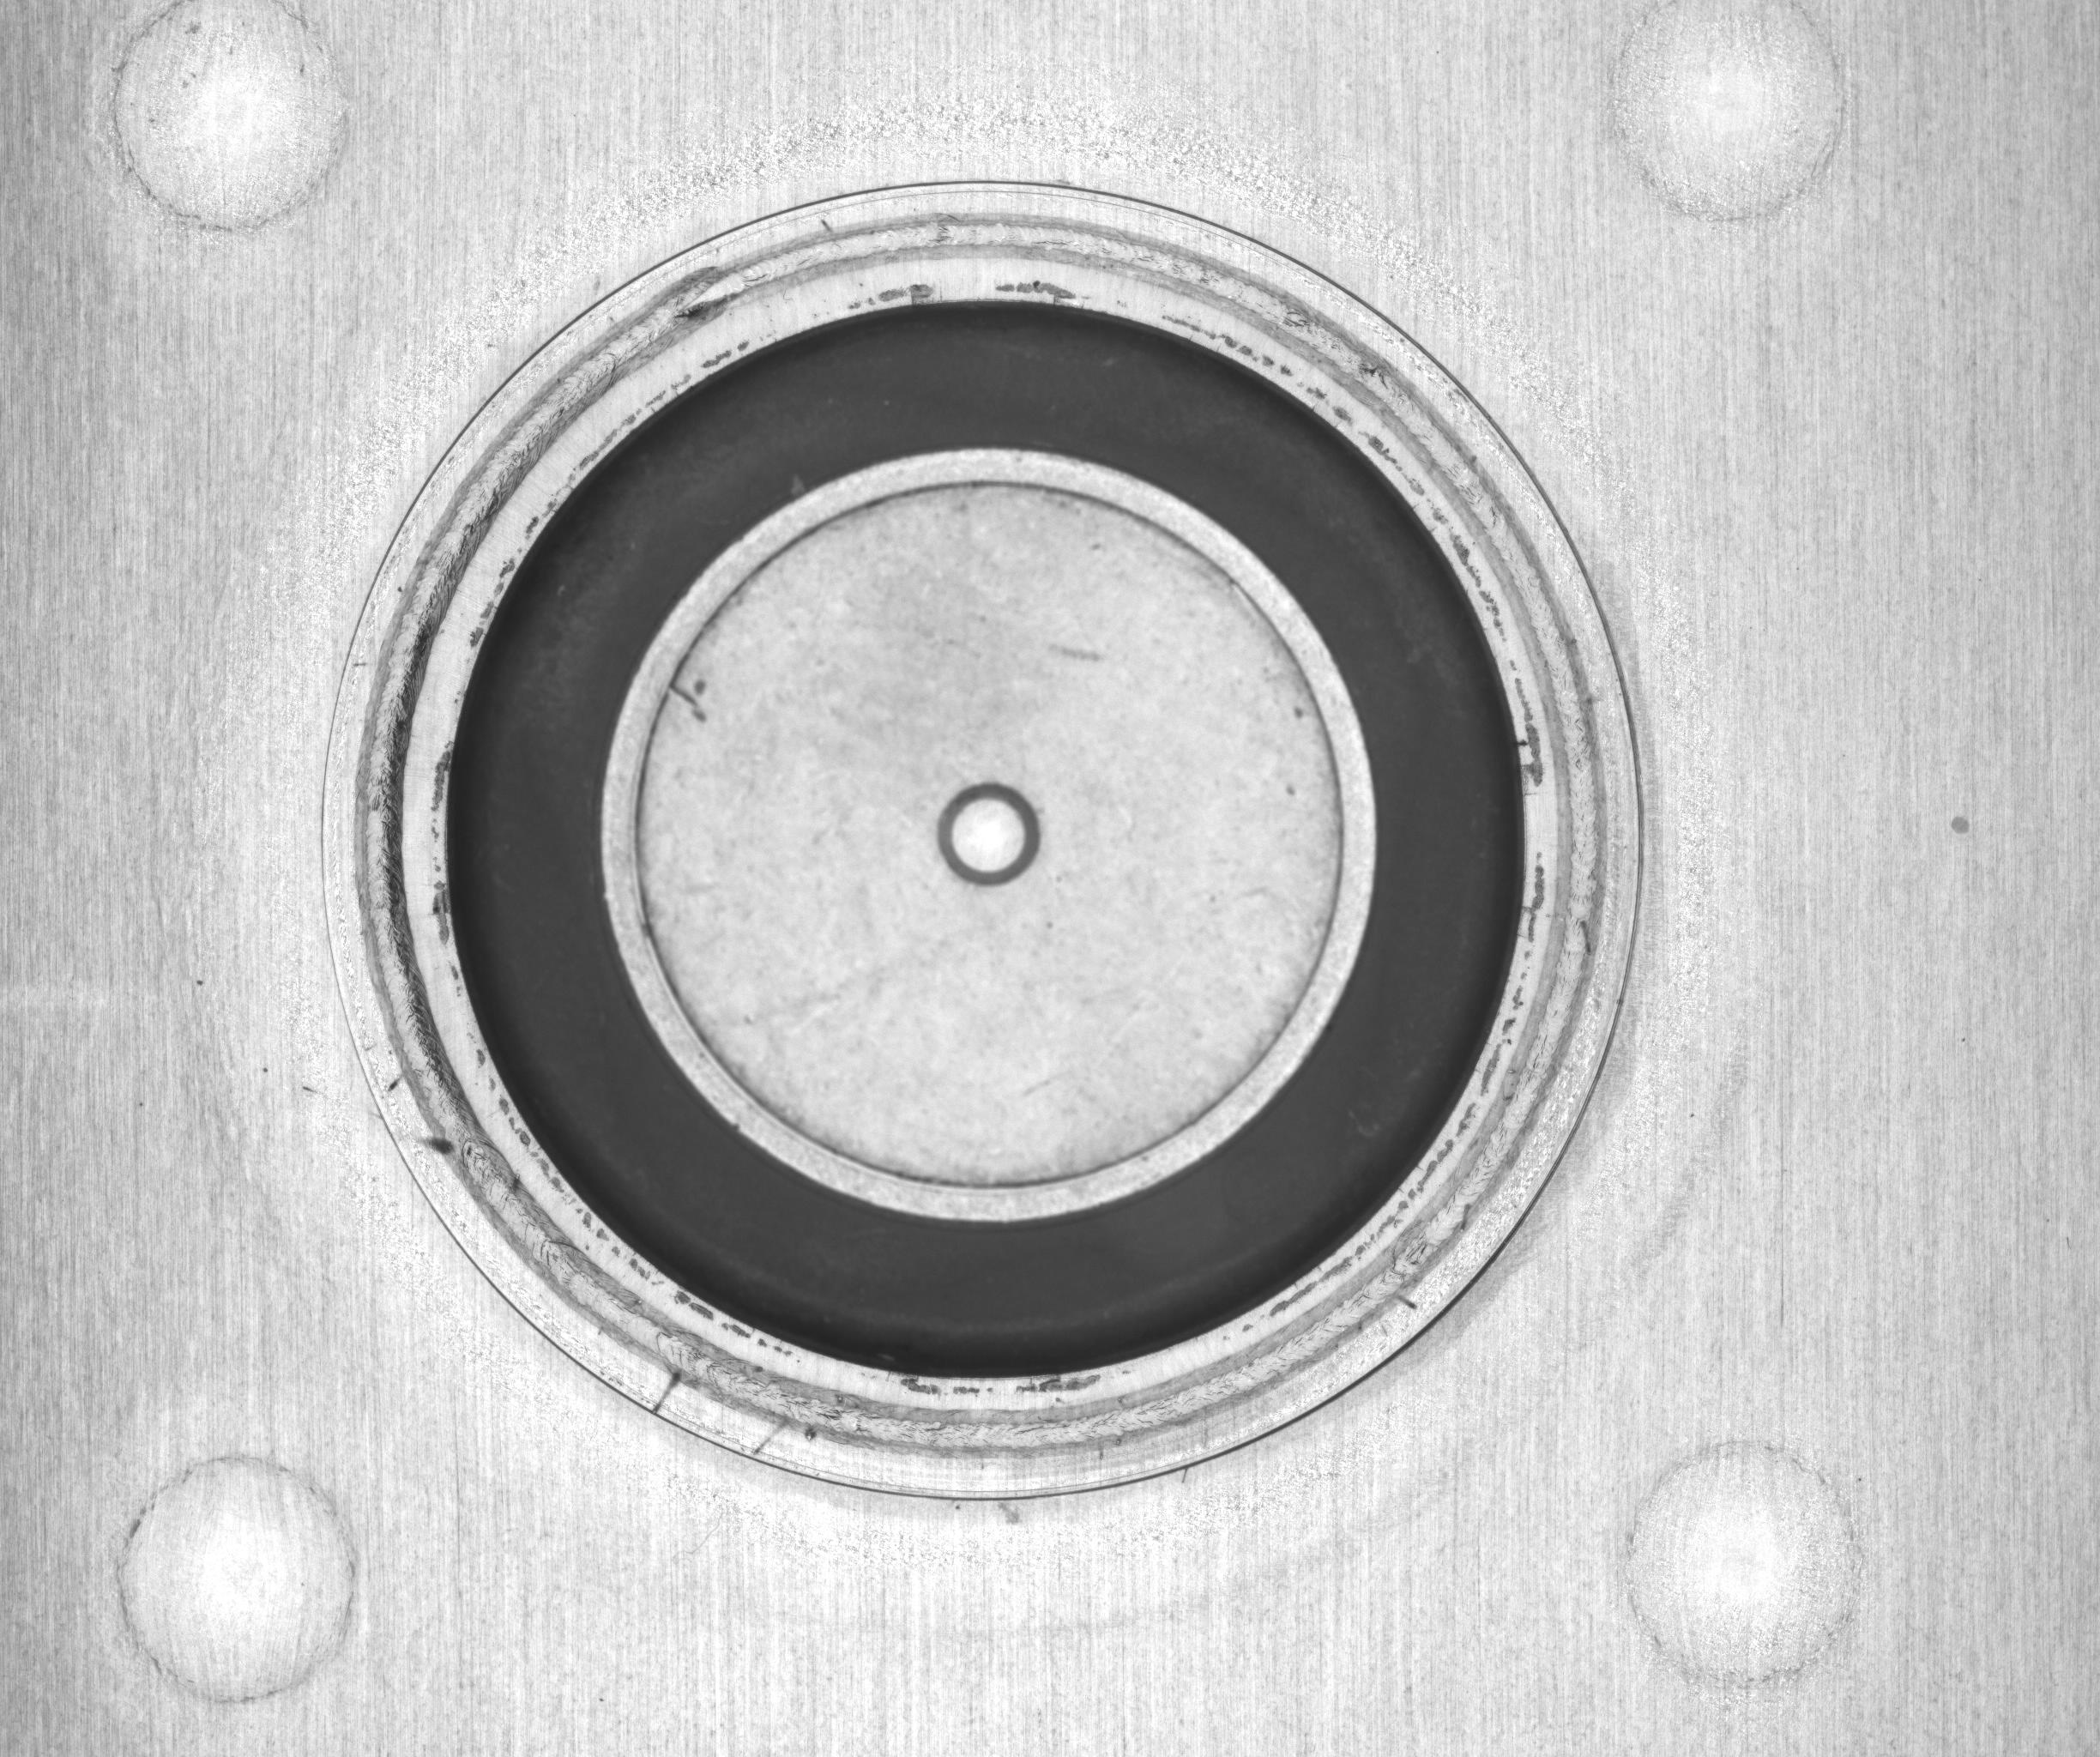weldtoohigh: (284, 162, 1723, 1532)
